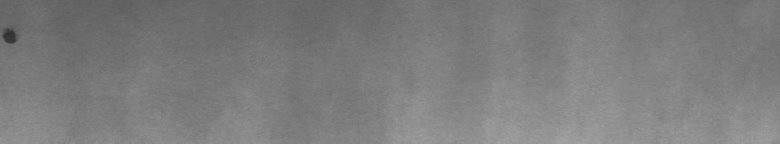fi: (4, 20, 24, 52)
